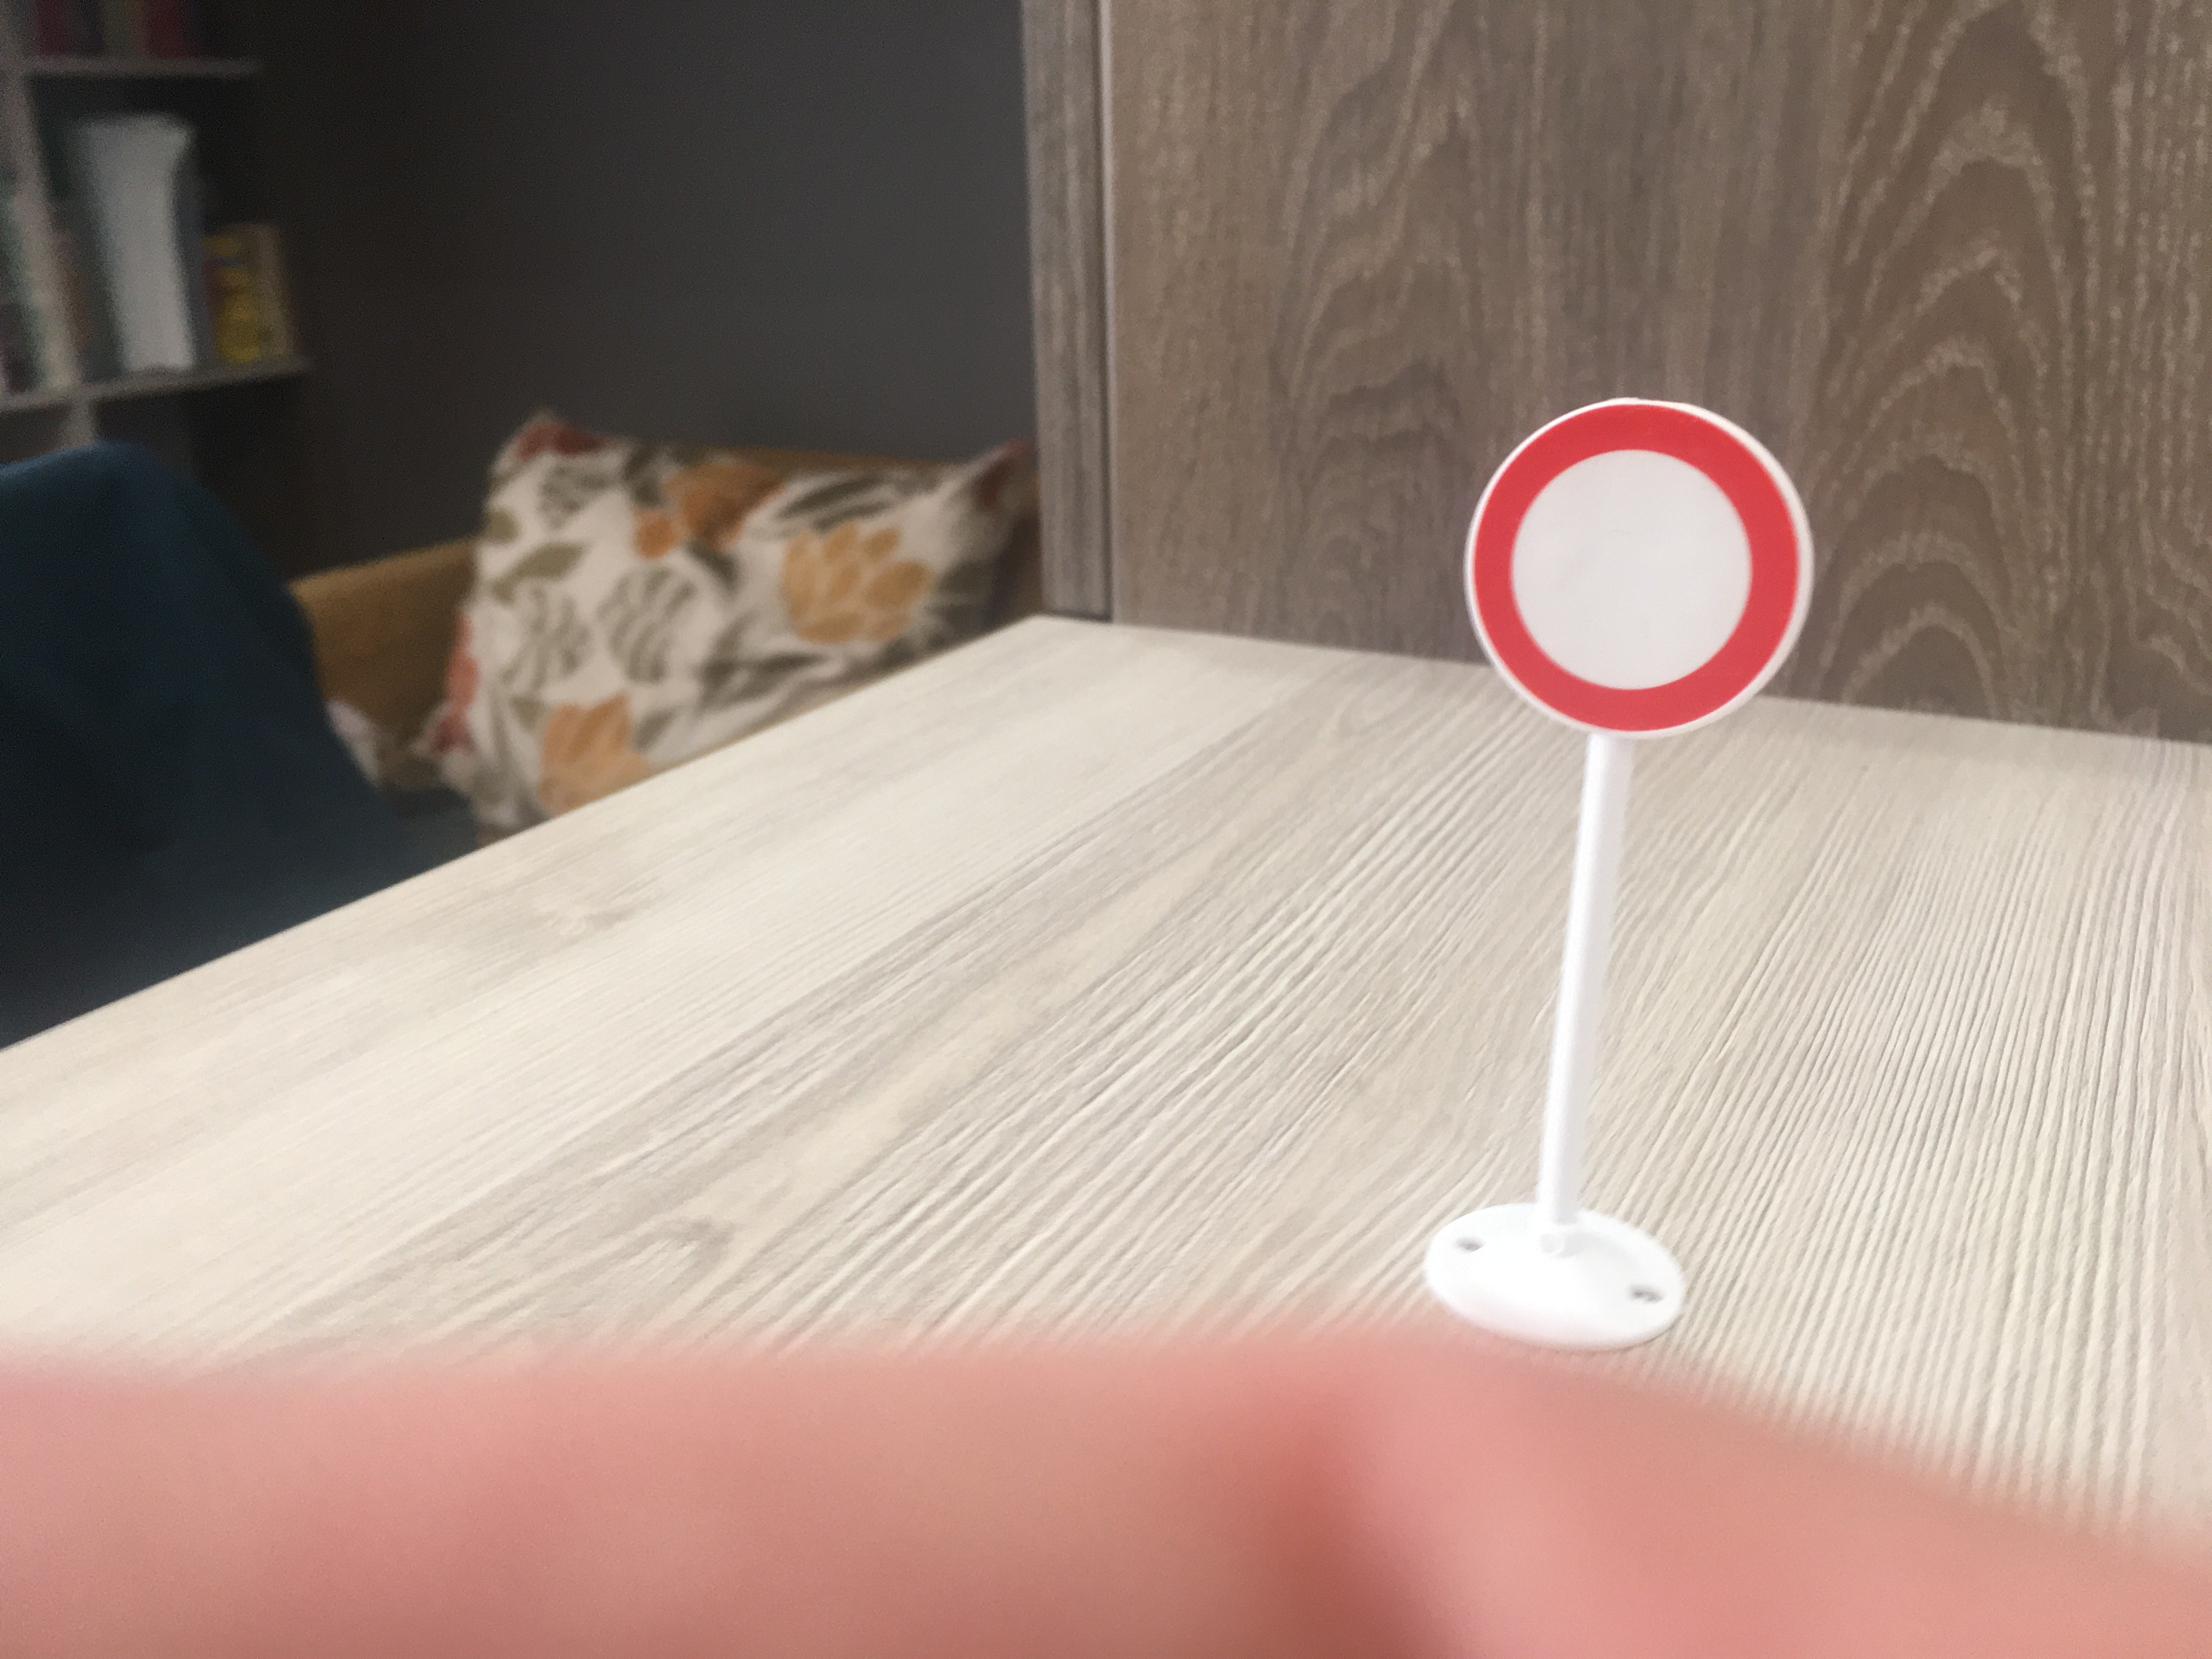noDrive: (1458, 401, 1806, 742)
